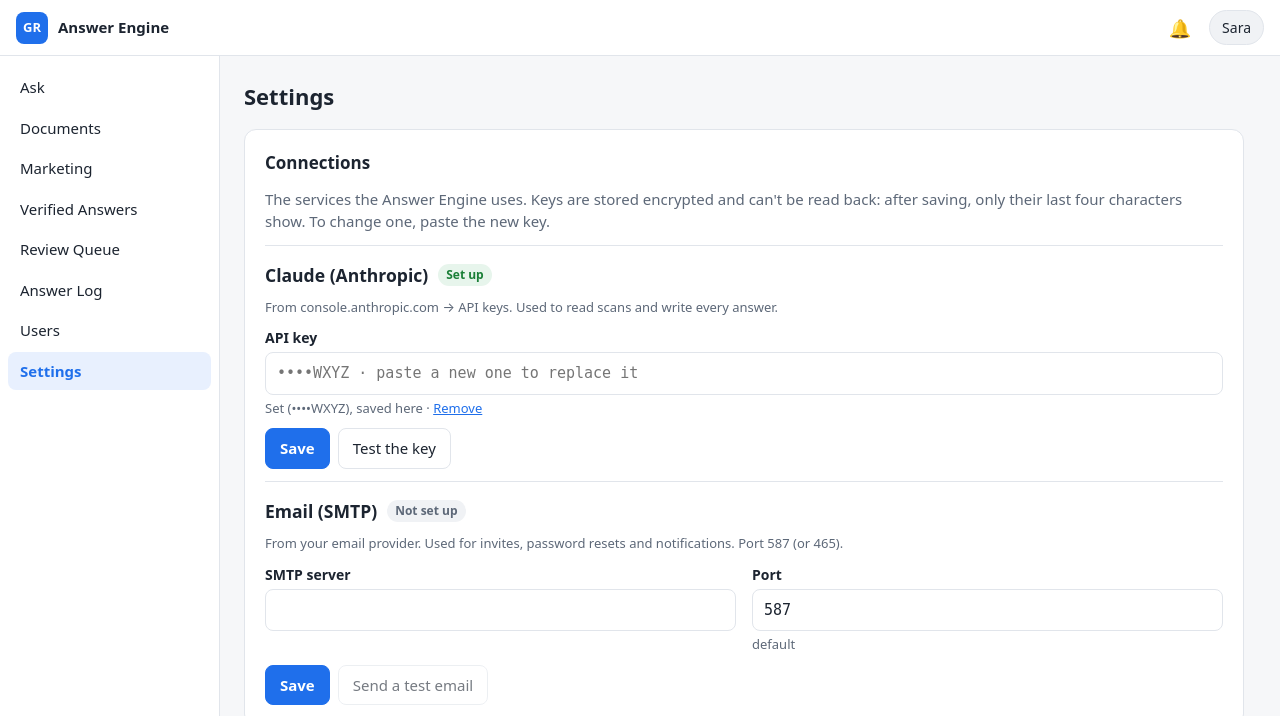
Scenario: the Test button reports what the service said
Click the button "Test the key": [394, 449] box [338, 428, 451, 469]
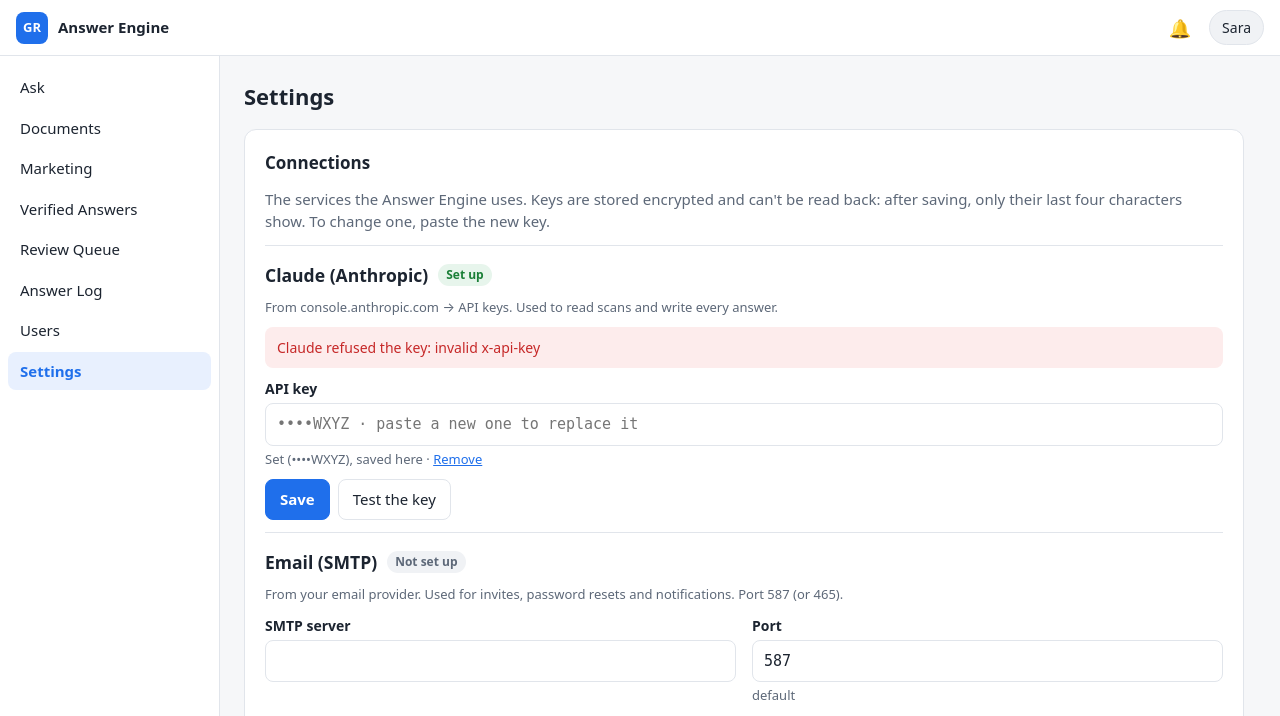
Now the text "Claude refused the key: invalid x-api-key" is shown, box [265, 327, 1223, 368]
